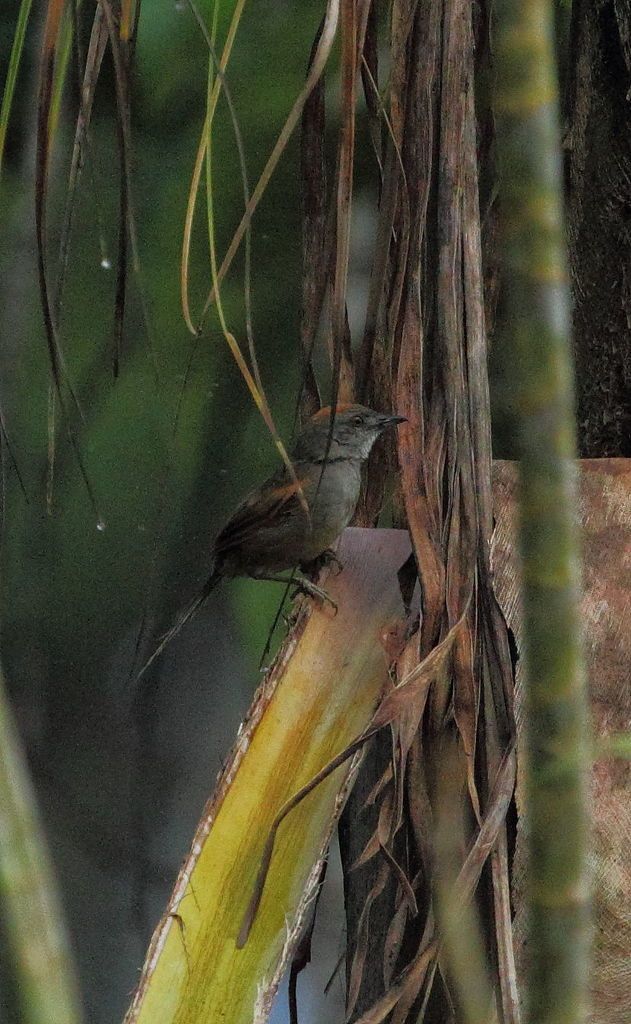Animal: (141, 397, 405, 676)
